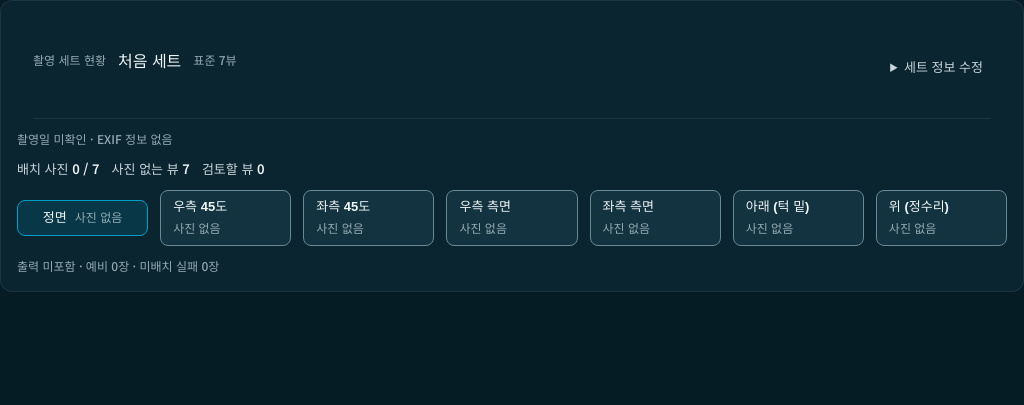
Test case: WorkspaceSetOverview › edits the existing shared session name through the optional disclosure
Click the heading "세트 정보 수정": point(944, 66) [904,57,983,76]
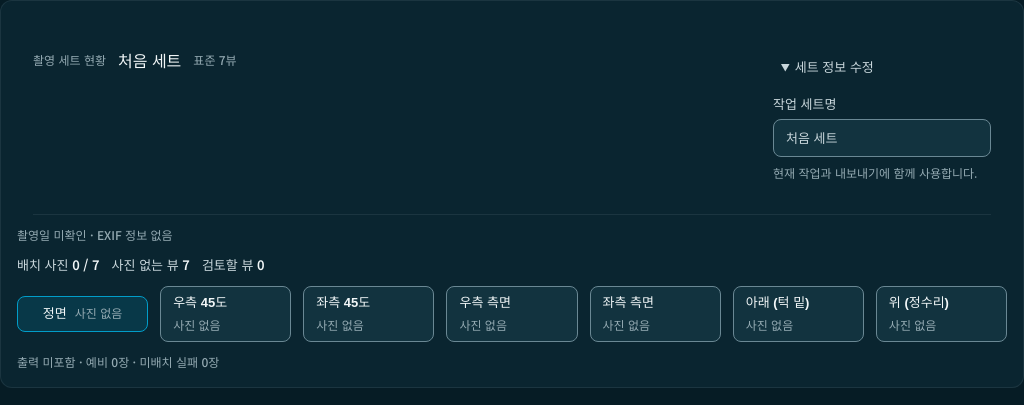
Replace the text in the field labelled "작업 세트명" with "오전 촬영": point(882, 138) [773,119,991,157]
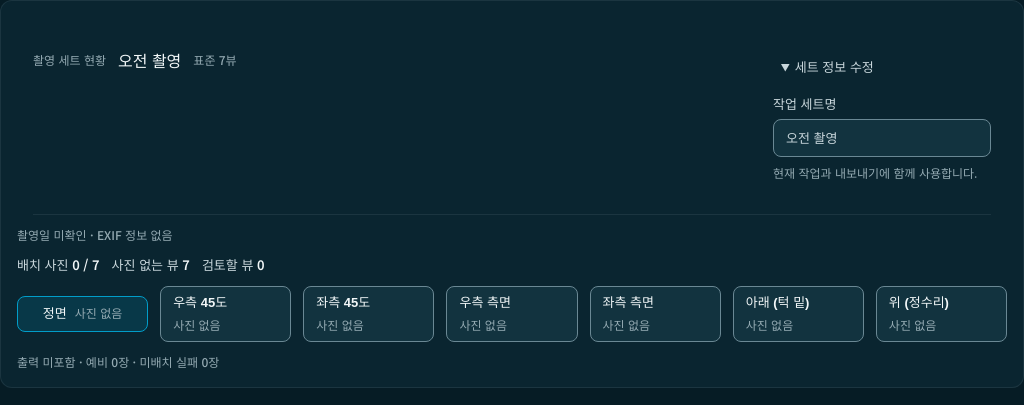
Now the text "오전 촬영" is shown, box [118,49,181,71]
